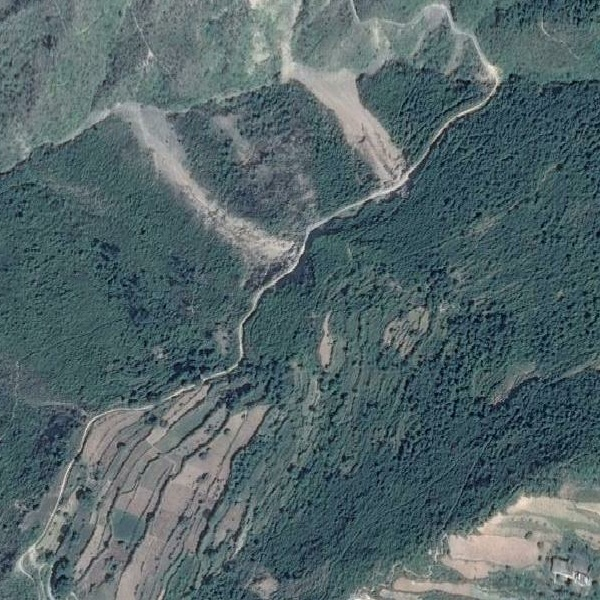slope: (114, 97, 300, 283), (278, 39, 410, 204)
